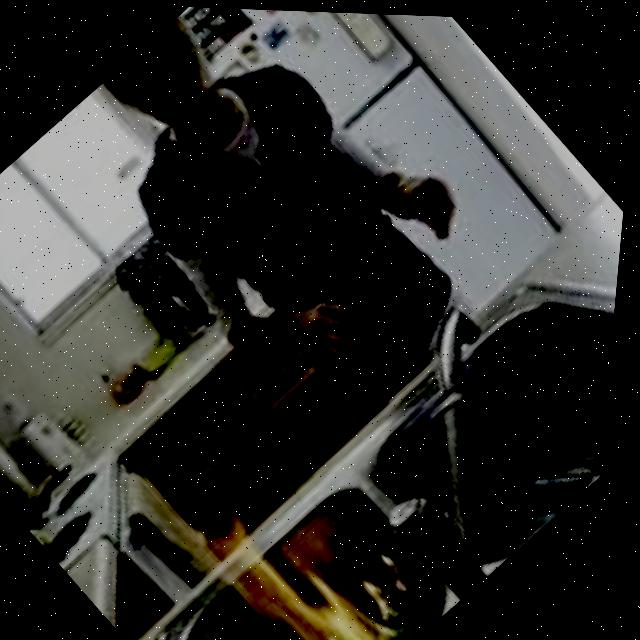Fire: (198, 484, 426, 640), (353, 540, 434, 618)
